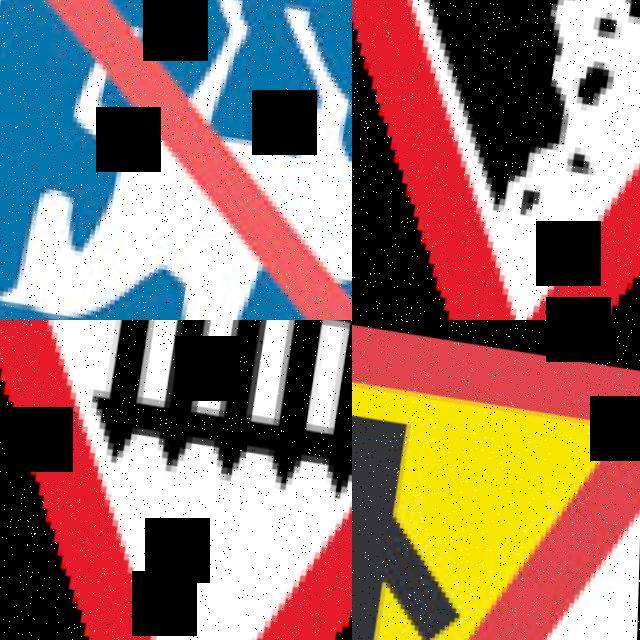112: (0, 0, 352, 320)
166: (352, 320, 640, 640)
Falling rocks: (352, 0, 640, 320)
Guarded level crossing ahead: (0, 320, 352, 640)
